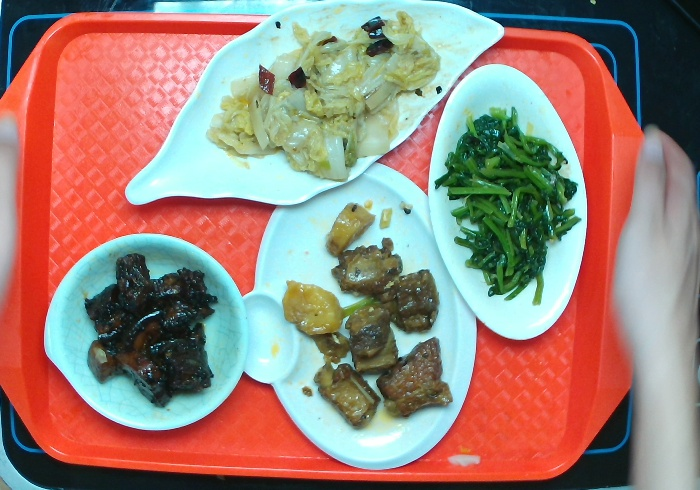RJxy-Bai_Se_Tuo_Yuan: (431, 62, 587, 346)
RJxy-Shu_Ye_Pan: (124, 1, 503, 205)
RJxy-Xiao_Jiao_Yuan_Wan: (39, 226, 245, 433)
RJxy-Zhan_Liao_Pan: (238, 159, 485, 471)
